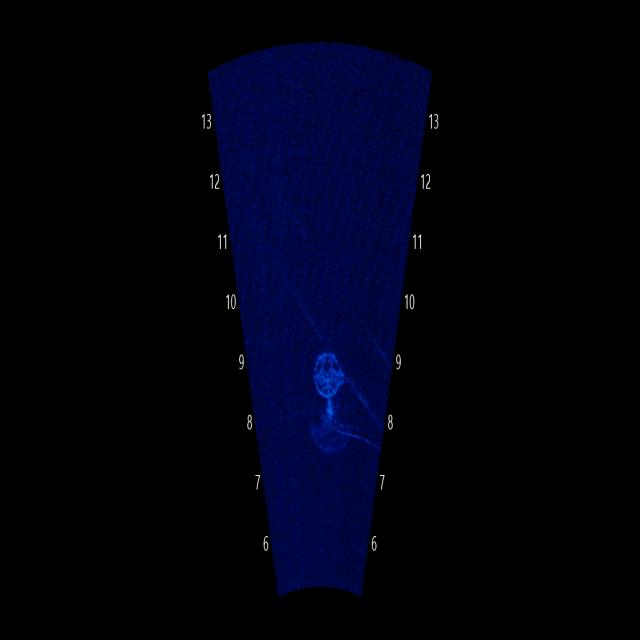circle: (298, 324, 362, 416)
